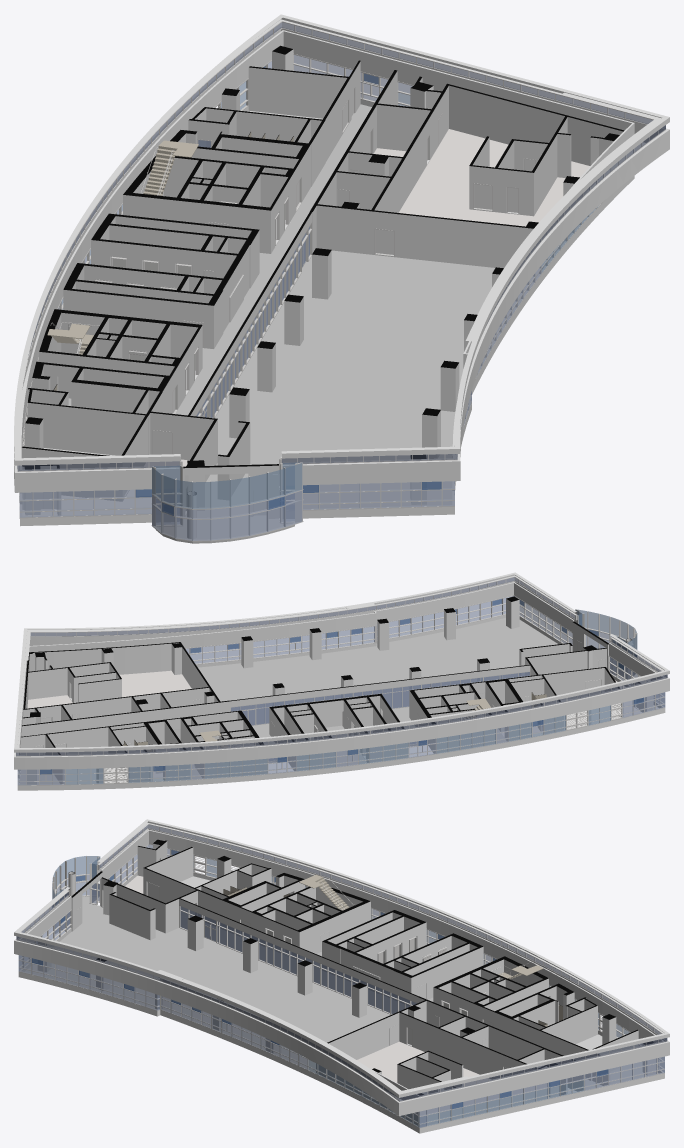
3 renders of one model, top to bottom at view 1: azimuth 30°, elevation 25°; view 2: azimuth 150°, elevation 25°; view 3: azimuth 270°, elevation 25°, orthographic. The views are drawn at different scales.
Parts seen in each view (by area): view 1: A1-24F-Wall1, A1-24F-Floor, A1-24F-Dry Wall, A1-24F-In Dry Wall, A1-24F-Glass1, A1-24F-Frame, A1-24F-Column, A1-24F-Glass4, A1-24F-Glass2, A1-24F-Door, A1-24F-Glass Wall, A1-24F-Stairs (+3 smaller); view 2: A1-24F-Wall1, A1-24F-Dry Wall, A1-24F-Floor, A1-24F-In Dry Wall, A1-24F-Frame, A1-24F-Glass1, A1-24F-Glass2, A1-24F-Glass4, A1-24F-Column, A1-24F-Glass Wall, A1-24F-Door, A1-24F-Glass3 (+3 smaller); view 3: A1-24F-Wall1, A1-24F-Dry Wall, A1-24F-Floor, A1-24F-In Dry Wall, A1-24F-Frame, A1-24F-Glass1, A1-24F-Glass4, A1-24F-Column, A1-24F-Glass Wall, A1-24F-Glass2, A1-24F-Door, A1-24F-Stairs (+3 smaller).
Boxes of the visible parts, <box> form: A1-24F-Wall1: <box>21,60,624,516</box>; A1-24F-Floor: <box>22,104,589,543</box>; A1-24F-Dry Wall: <box>14,14,669,492</box>; A1-24F-In Dry Wall: <box>19,30,634,526</box>; A1-24F-Glass1: <box>19,55,541,540</box>; A1-24F-Frame: <box>17,21,665,541</box>; A1-24F-Column: <box>24,45,619,538</box>; A1-24F-Glass4: <box>17,22,665,471</box>; A1-24F-Glass2: <box>61,81,597,508</box>; A1-24F-Door: <box>43,88,535,515</box>; A1-24F-Glass Wall: <box>196,222,312,418</box>; A1-24F-Stairs: <box>47,140,198,354</box>; A1-24F-Wall1: <box>21,642,650,783</box>; A1-24F-Dry Wall: <box>14,572,669,769</box>; A1-24F-Floor: <box>20,618,658,784</box>; A1-24F-In Dry Wall: <box>17,582,665,790</box>; A1-24F-Frame: <box>16,576,667,785</box>; A1-24F-Glass1: <box>17,596,665,785</box>; A1-24F-Glass2: <box>65,609,637,784</box>; A1-24F-Glass4: <box>16,577,667,755</box>; A1-24F-Column: <box>27,596,653,784</box>; A1-24F-Glass Wall: <box>230,671,530,725</box>; A1-24F-Door: <box>34,640,638,766</box>; A1-24F-Glass3: <box>40,599,644,774</box>; A1-24F-Wall1: <box>101,840,638,1126</box>; A1-24F-Dry Wall: <box>14,819,669,1116</box>; A1-24F-Floor: <box>25,875,646,1097</box>; A1-24F-In Dry Wall: <box>18,829,664,1133</box>; A1-24F-Frame: <box>16,824,666,1128</box>; A1-24F-Glass1: <box>18,844,664,1127</box>; A1-24F-Glass4: <box>16,824,667,1101</box>; A1-24F-Column: <box>38,839,655,1097</box>; A1-24F-Glass Wall: <box>179,905,417,1014</box>; A1-24F-Glass2: <box>52,856,629,1127</box>; A1-24F-Door: <box>76,858,598,1082</box>; A1-24F-Stairs: <box>299,875,543,979</box>.
Size of the model in its own units: 71.25 by 5.48 by 71.71.
